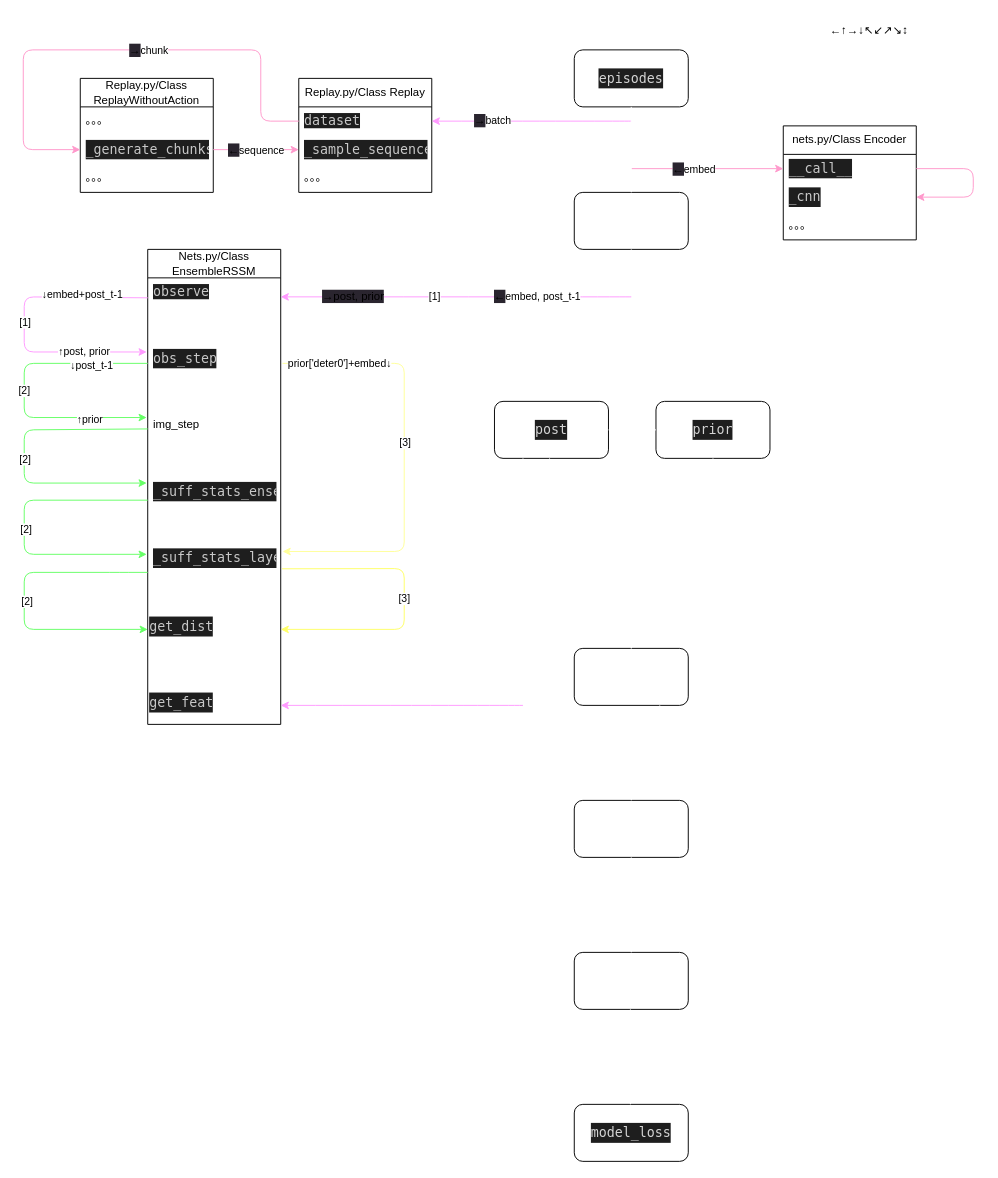
Some shapes in this 998 by 1178 pixel diagram are drawn without their labels. Here are the shapes that lost their labels. From the top down, the centre of each, then its label:
point (630, 220): embed
point (630, 676): losses['kl']
point (630, 828): feat
point (630, 980): losses['image']
